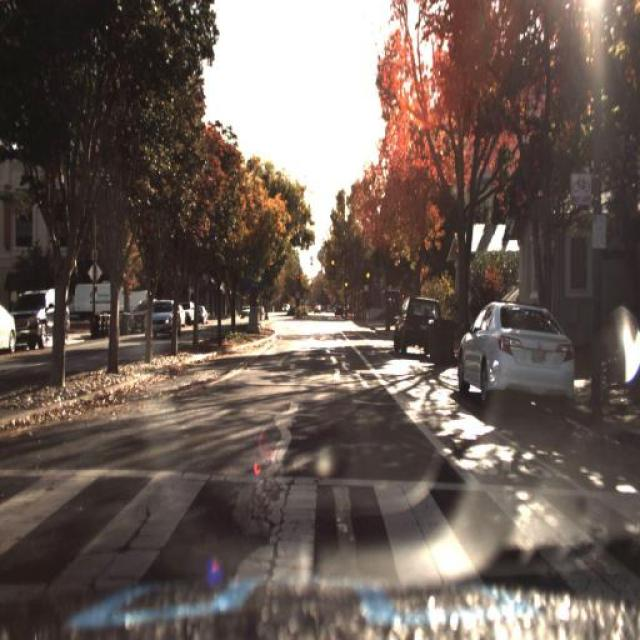car: (452, 296, 580, 413), (12, 282, 74, 352), (388, 296, 437, 356), (145, 296, 181, 333), (0, 298, 19, 362), (198, 300, 211, 326), (178, 304, 188, 331), (188, 298, 194, 328)
trafficLight-Green: (326, 250, 336, 274)
trafficLight-RedLeft: (363, 261, 373, 288), (340, 272, 350, 296)
trafficLight-Yellow: (293, 272, 305, 298)
trafficLight-YellowLeft: (362, 265, 373, 284), (342, 278, 352, 290)
